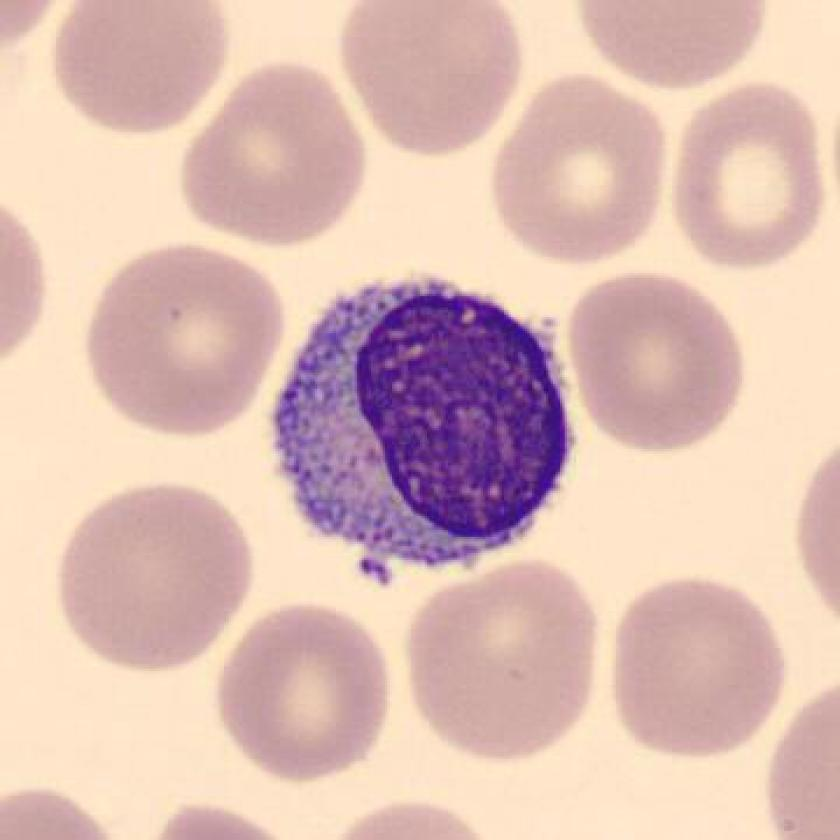lymphocyte: (255, 253, 594, 603)
